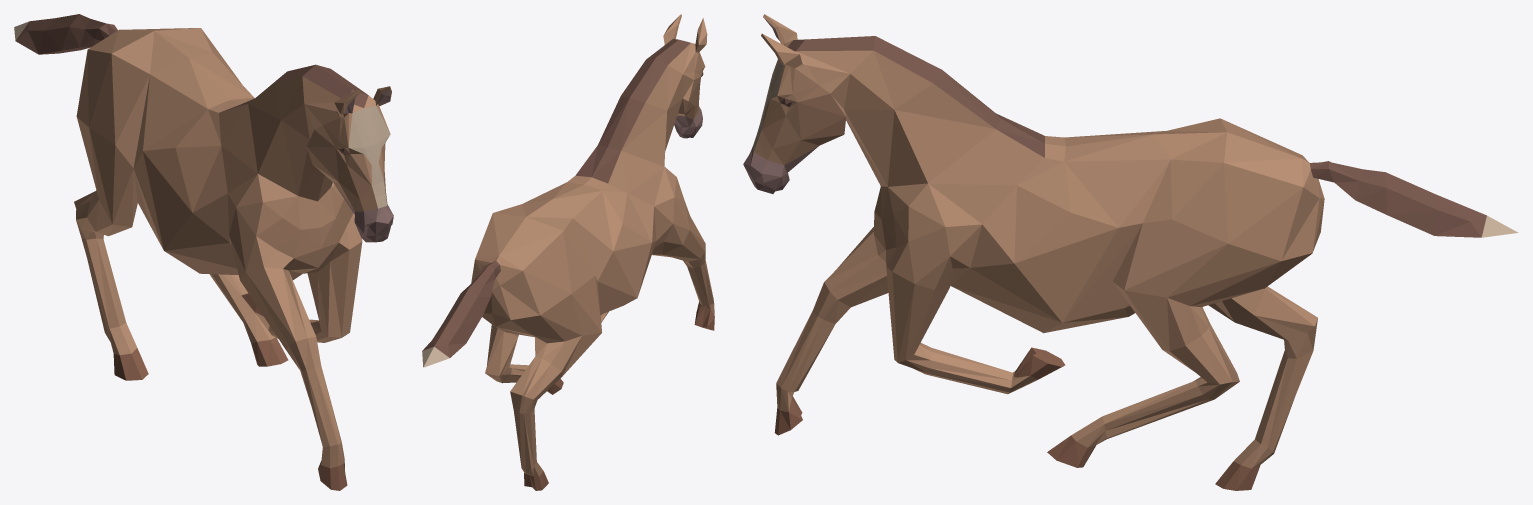
Rendered from Horse.glb.
3 views of the same model, side by side, from view 1: azimuth 30°, elevation 25°; view 2: azimuth 150°, elevation 25°; view 3: azimuth 270°, elevation 25° (orthographic). The views are drawn at different scales.
Visible parts, largest first — view 1: mesh_0; view 2: mesh_0; view 3: mesh_0.
Part boxes in pixels (<box>): mesh_0: <box>14,14,393,490</box>; mesh_0: <box>422,14,714,490</box>; mesh_0: <box>743,14,1518,490</box>.
Bounding box in the file's own units: 63.6 × 188 × 278.
